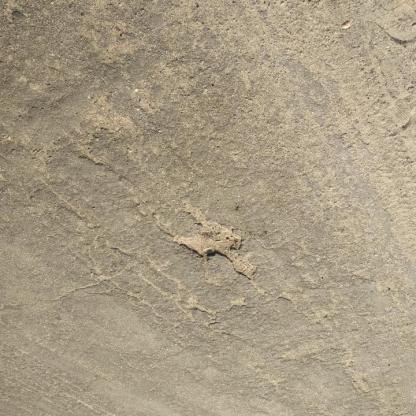pothole: (171, 221, 246, 262), (232, 261, 260, 281)
